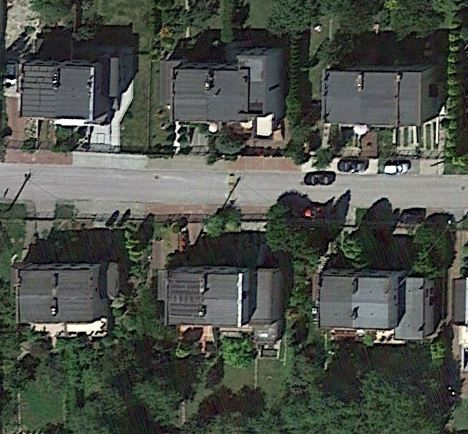family house: (308, 260, 440, 347), (165, 41, 291, 128), (13, 51, 143, 131), (320, 56, 448, 131), (6, 251, 125, 331), (160, 261, 290, 334)
